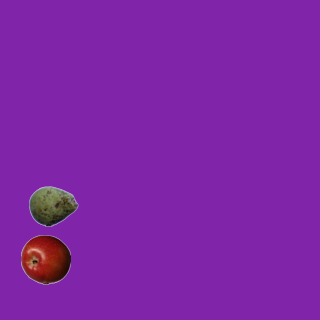Apple Braeburn: (20, 234, 70, 284)
Pear Stone: (28, 181, 78, 231)
